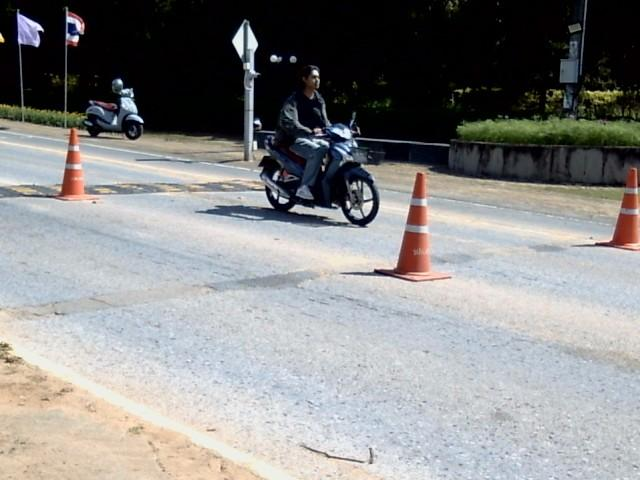motor: (259, 112, 379, 225), (82, 79, 143, 139)
no-helmet: (299, 61, 319, 88)
person: (276, 66, 330, 200)
